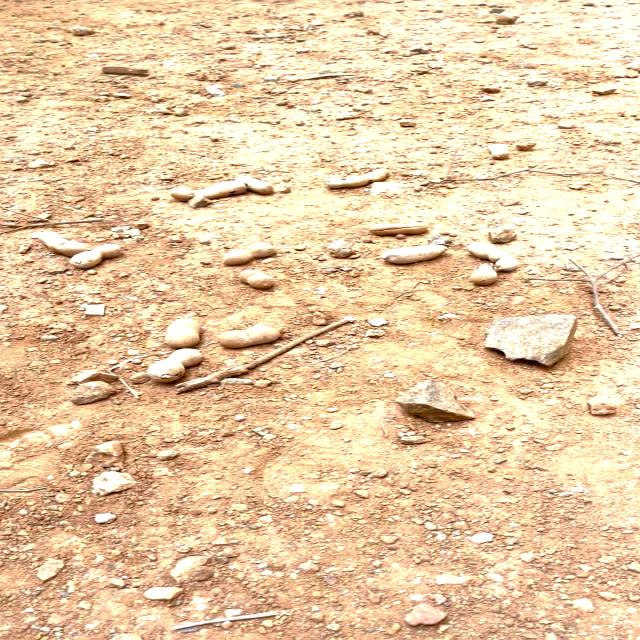tamarind: (164, 175, 280, 209), (150, 346, 211, 383), (381, 236, 454, 266), (217, 323, 289, 353), (462, 239, 522, 274), (322, 167, 395, 192), (69, 241, 127, 272), (222, 242, 277, 268), (163, 314, 204, 348), (30, 232, 90, 254), (365, 221, 437, 239), (233, 270, 283, 290), (464, 262, 509, 284)
